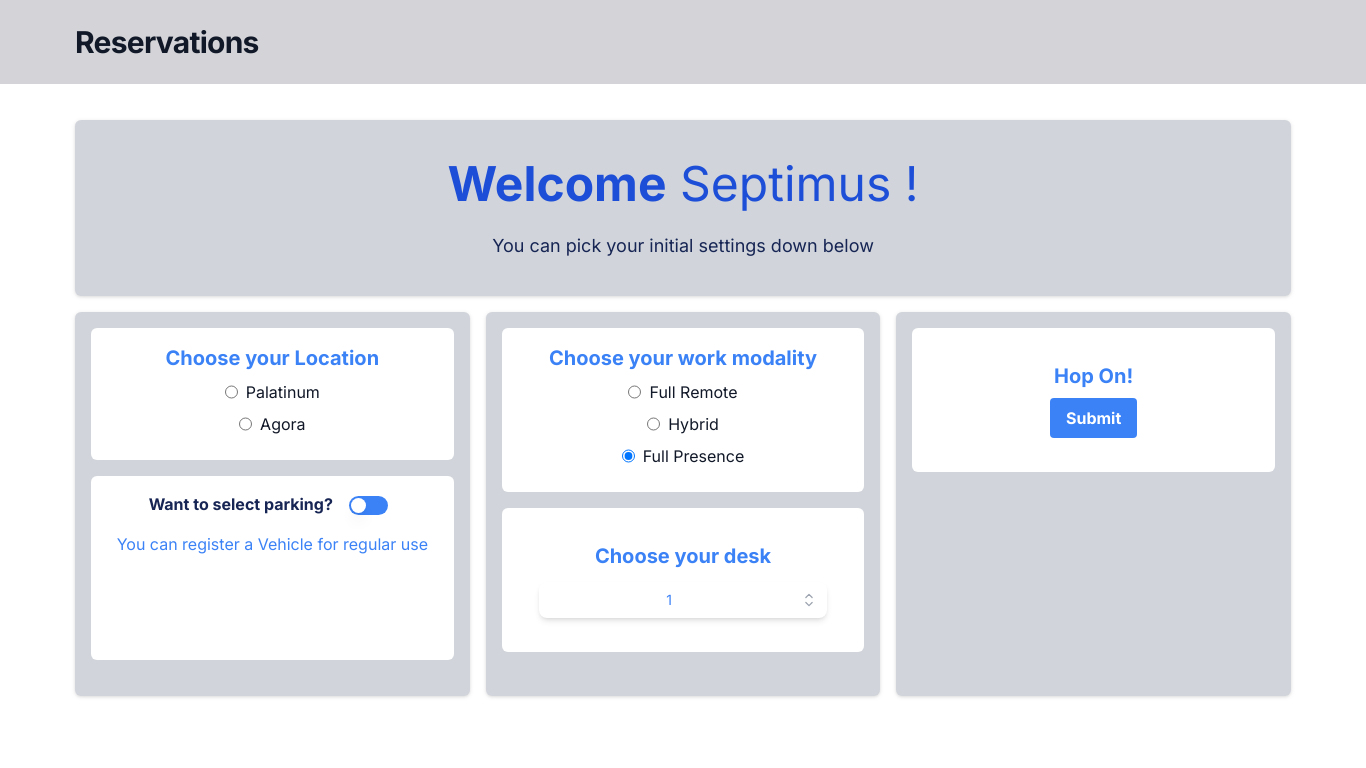
it: Reservations Page Test Suite › User can select the otions of the desk dropdown
Clicking the element
Click the button with test id "desk-select".
click(669, 600)  # box [539, 582, 827, 618]
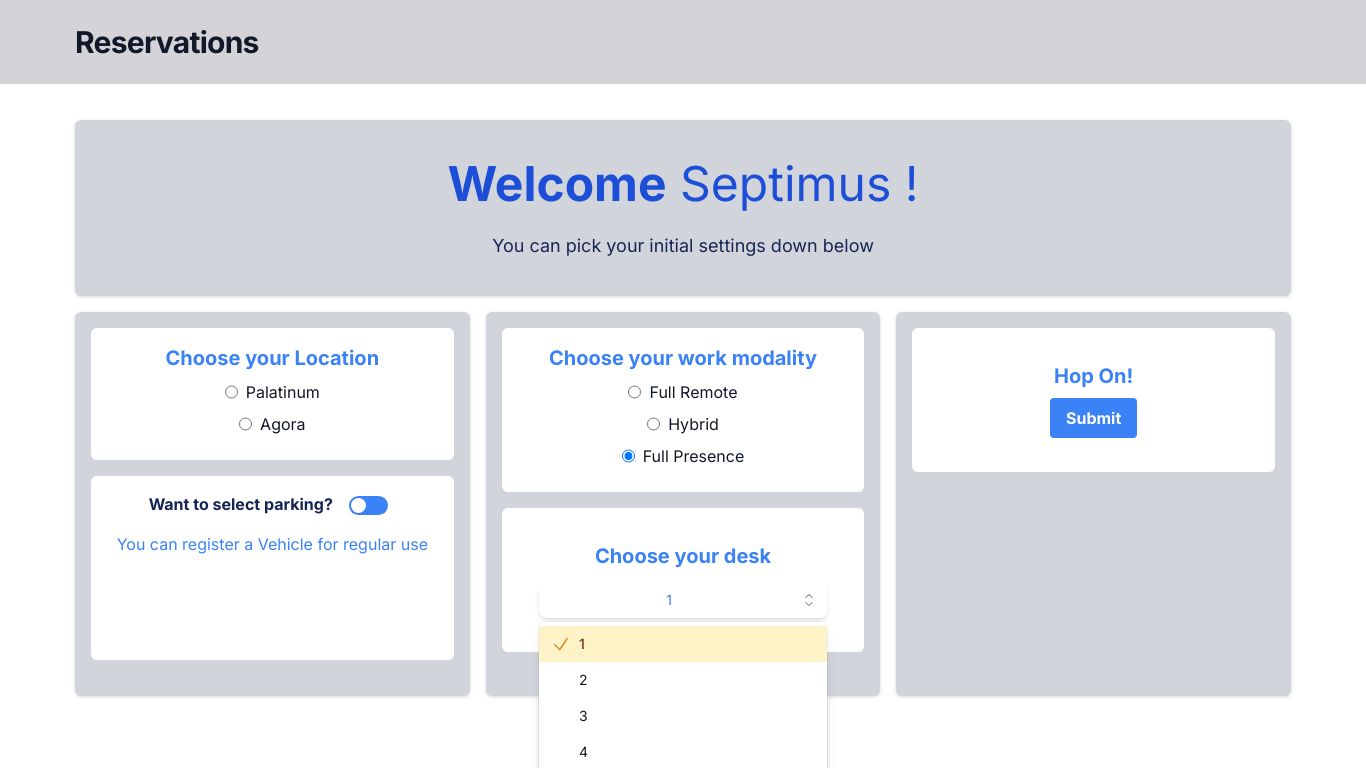
Now the option "1" is shown, box [539, 626, 827, 662]
